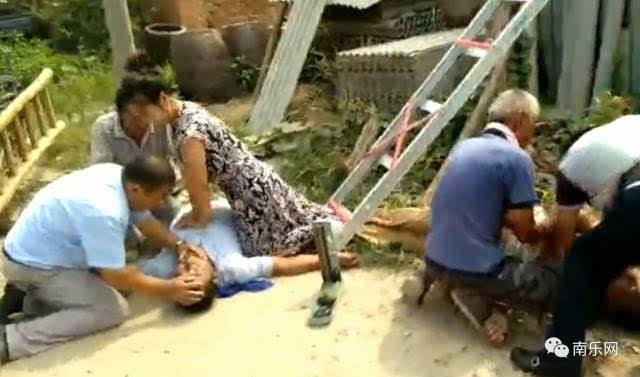Fall-Detected: (133, 188, 352, 306)
